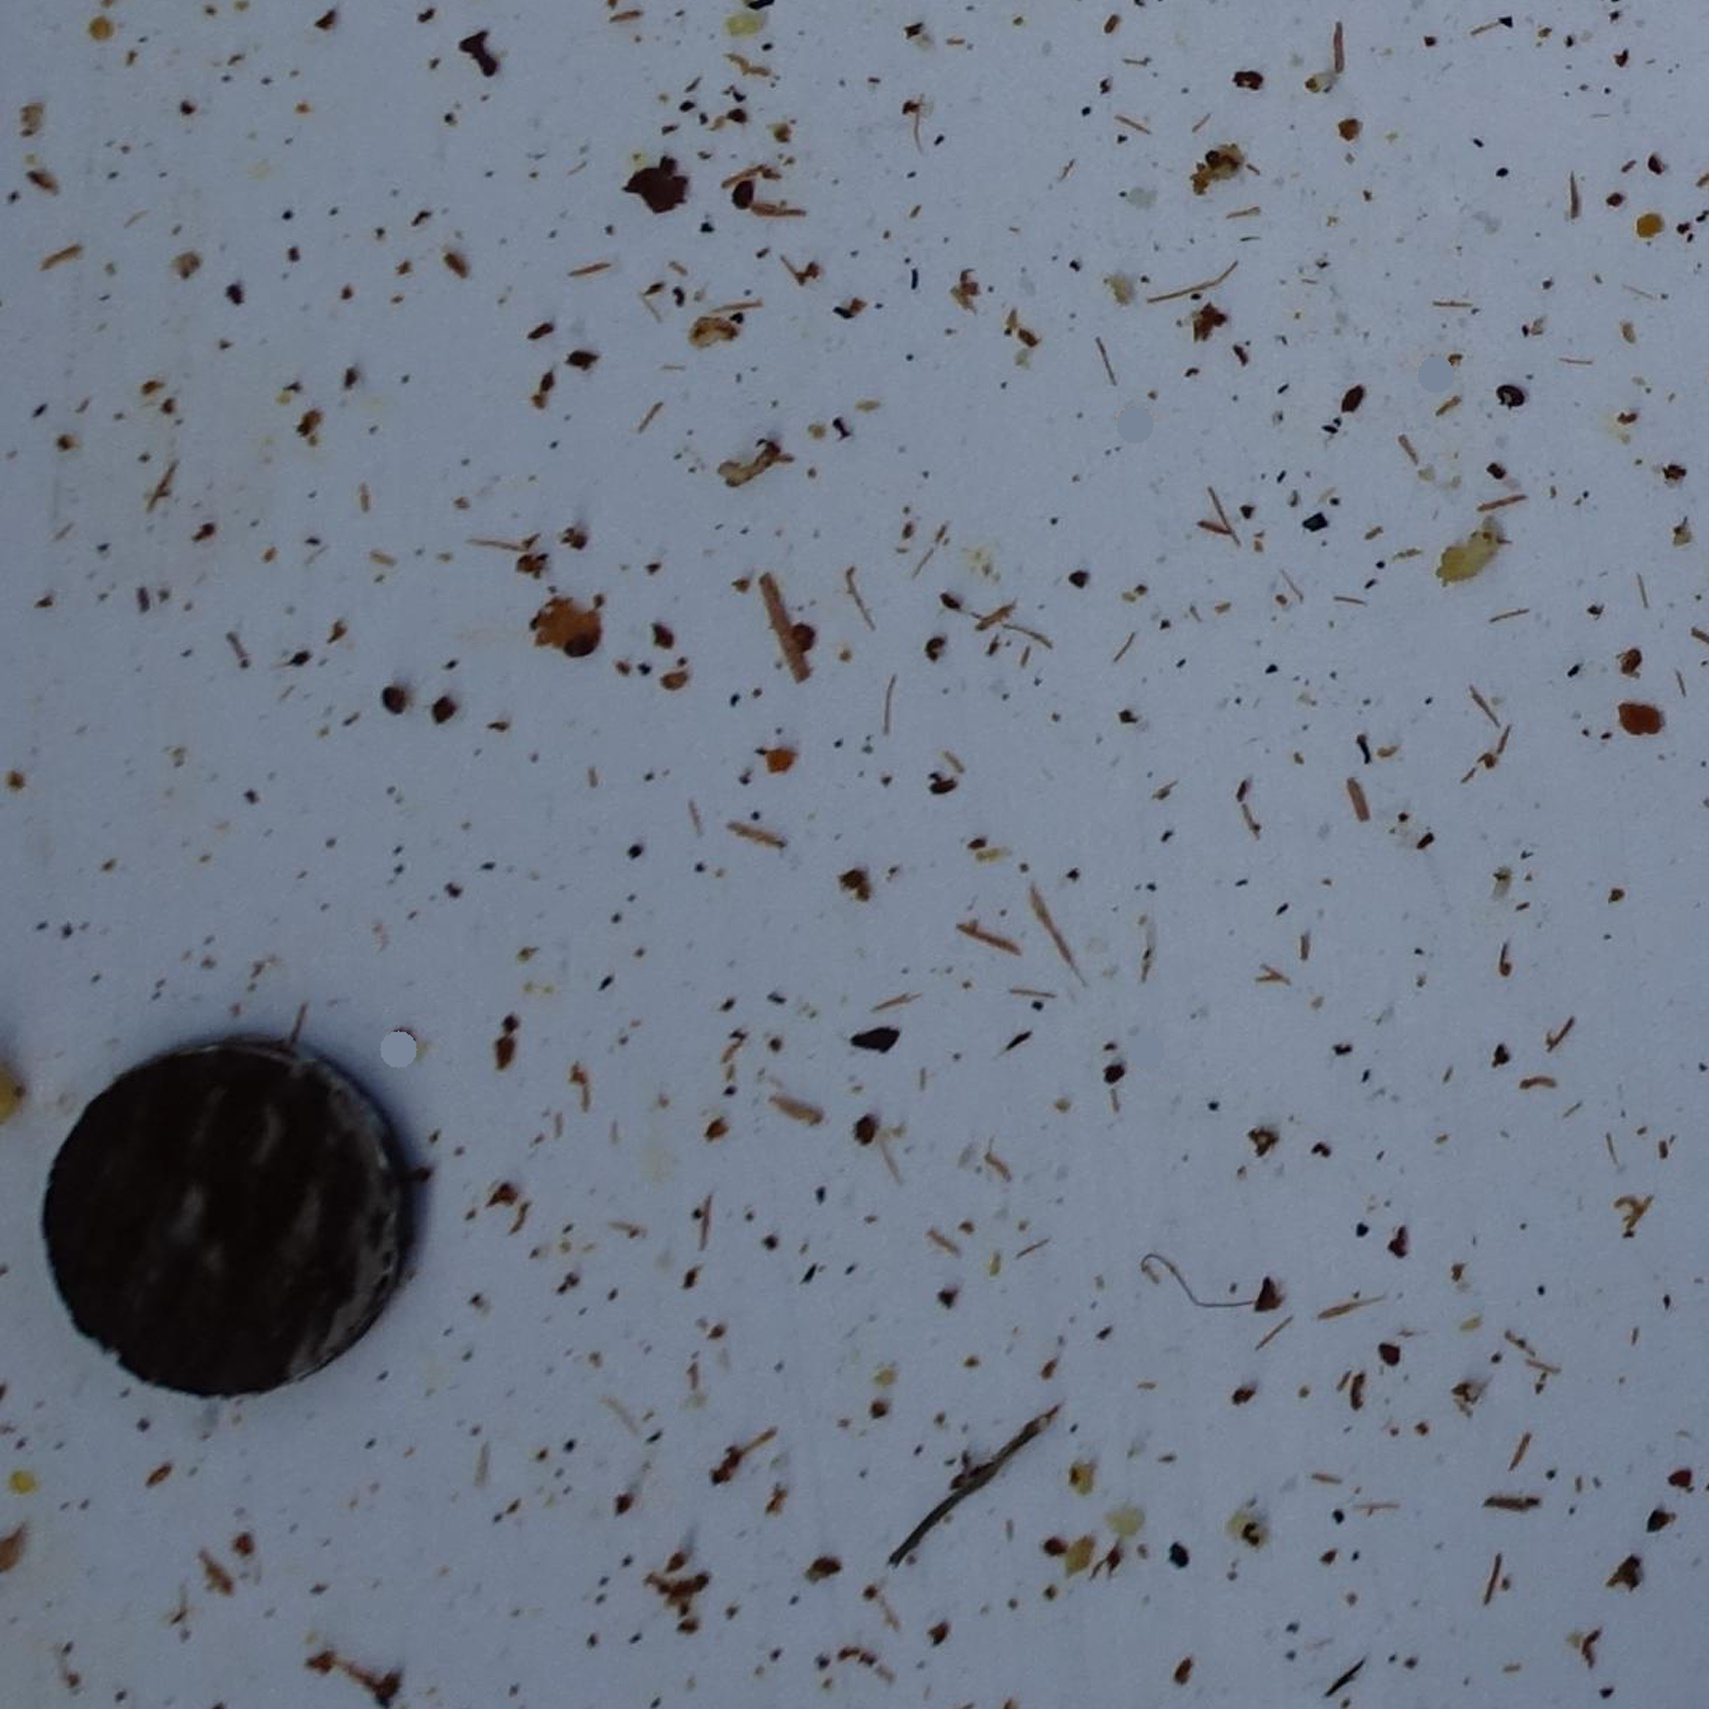Varroa: (844, 1110, 887, 1152), (380, 681, 419, 720), (728, 172, 762, 207), (1491, 382, 1524, 415)
